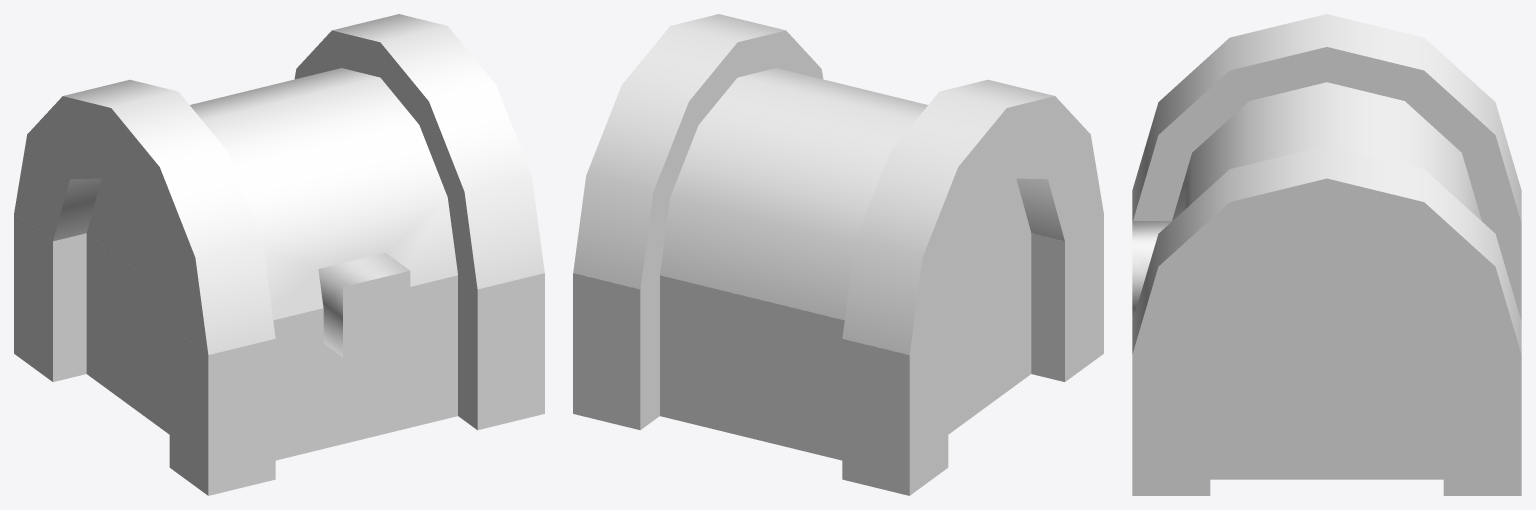
The model's file is chest.glb.
The picture shows the model from 3 angles, left to right: view 1: azimuth 30°, elevation 25°; view 2: azimuth 150°, elevation 25°; view 3: azimuth 270°, elevation 25°; orthographic projection.
Visible parts, largest first — view 1: lid, chest; view 2: lid, chest; view 3: lid, chest.
Boxes of the visible parts, left/top/right/bottom form: lid: left=14, top=14, right=544, bottom=357; chest: left=14, top=213, right=544, bottom=495; lid: left=573, top=14, right=1103, bottom=354; chest: left=573, top=213, right=1103, bottom=495; lid: left=1132, top=14, right=1521, bottom=354; chest: left=1132, top=223, right=1521, bottom=495.
Bounding box in the file's own units: 1.27 × 1.15 × 1.28.
1 material, 1 textured.
